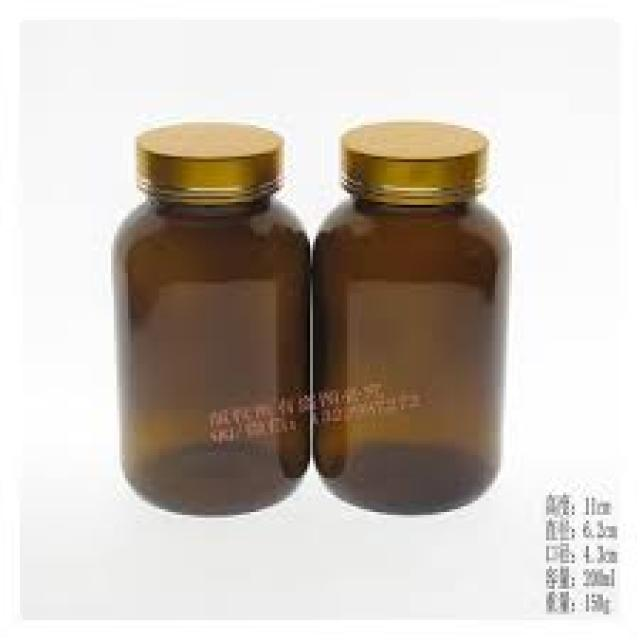glass: (307, 196, 498, 518), (111, 202, 307, 515)
metal: (134, 117, 285, 199), (336, 120, 484, 199)
